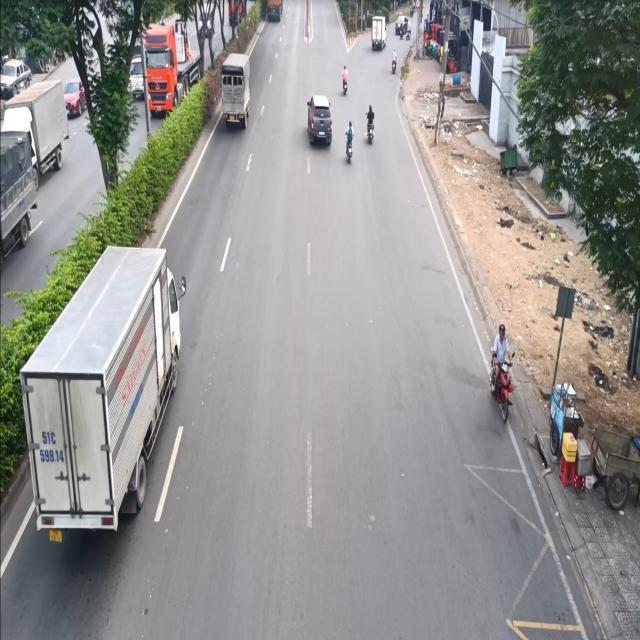car: (305, 87, 336, 155)
motor: (486, 319, 516, 426), (340, 54, 352, 104), (365, 102, 378, 144), (345, 120, 355, 162)
truck: (12, 235, 195, 558), (222, 46, 254, 134), (368, 12, 388, 56)
